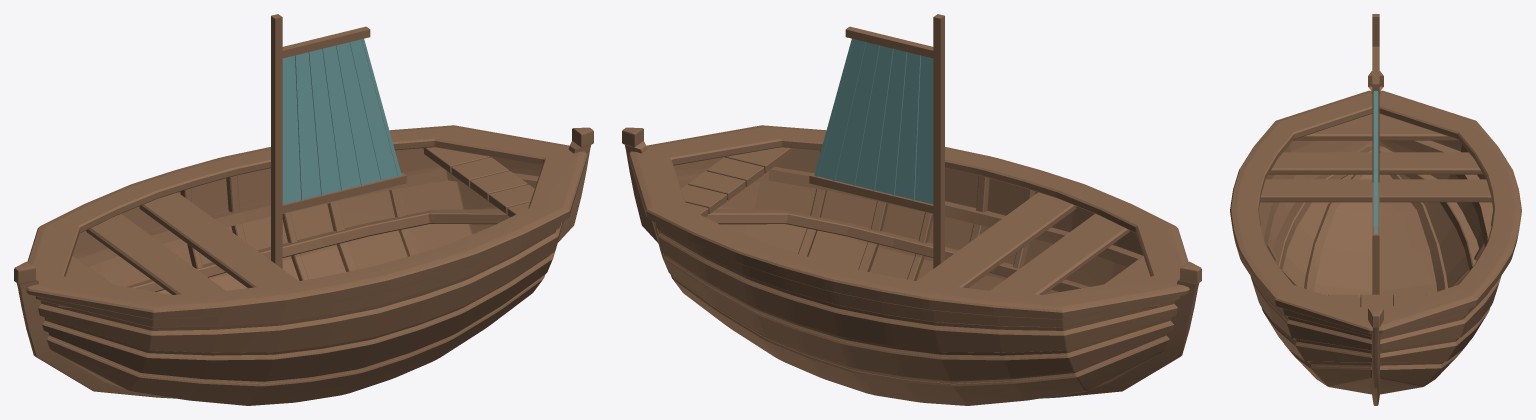
File: BOAT.fbx
The picture shows the model from 3 angles, left to right: view 1: azimuth 30°, elevation 25°; view 2: azimuth 150°, elevation 25°; view 3: azimuth 270°, elevation 25°; orthographic projection. The views are drawn at different scales.
Parts seen in each view (by area): view 1: polySurface18, flag, pCube4, pCube3, polySurface6, polySurface9, pCube8, pCube9, polySurface8, pCube11, pCube12, polySurface16 (+4 smaller); view 2: polySurface18, flag, pCube4, pCube3, polySurface6, polySurface9, pCube8, pCube9, polySurface8, pCube11, pCube12, polySurface16 (+4 smaller); view 3: polySurface18, pCube4, pCube3, polySurface8, polySurface9, pCube2, polySurface11, polySurface6, pCube9, pCube8, flag, polySurface13 (+2 smaller).
Part boxes in pixels (x1=…): polySurface18: x1=26, y1=125, x2=587, y2=405; flag: x1=282, y1=38, x2=401, y2=204; pCube4: x1=139, y1=192, x2=298, y2=288; pCube3: x1=86, y1=214, x2=225, y2=294; polySurface6: x1=14, y1=127, x2=593, y2=398; polySurface9: x1=126, y1=209, x2=510, y2=291; pCube8: x1=423, y1=147, x2=534, y2=217; pCube9: x1=271, y1=14, x2=282, y2=268; polySurface8: x1=46, y1=166, x2=538, y2=325; pCube11: x1=282, y1=173, x2=406, y2=213; pCube12: x1=282, y1=26, x2=370, y2=58; polySurface16: x1=327, y1=201, x2=357, y2=271; polySurface18: x1=628, y1=125, x2=1189, y2=405; flag: x1=814, y1=38, x2=933, y2=204; pCube4: x1=917, y1=192, x2=1076, y2=288; pCube3: x1=990, y1=214, x2=1129, y2=294; polySurface6: x1=622, y1=127, x2=1201, y2=398; polySurface9: x1=705, y1=209, x2=1089, y2=291; pCube8: x1=681, y1=147, x2=792, y2=217; pCube9: x1=933, y1=14, x2=944, y2=268; polySurface8: x1=677, y1=167, x2=1169, y2=325; pCube11: x1=809, y1=173, x2=933, y2=213; pCube12: x1=845, y1=26, x2=933, y2=58; polySurface16: x1=858, y1=201, x2=888, y2=271; polySurface18: x1=1230, y1=90, x2=1521, y2=394; pCube4: x1=1260, y1=179, x2=1491, y2=202; pCube3: x1=1268, y1=152, x2=1483, y2=174; polySurface8: x1=1259, y1=140, x2=1492, y2=351; polySurface9: x1=1273, y1=146, x2=1478, y2=270; pCube2: x1=1293, y1=114, x2=1458, y2=140; polySurface11: x1=1304, y1=174, x2=1447, y2=291; polySurface6: x1=1368, y1=71, x2=1383, y2=405; pCube9: x1=1372, y1=14, x2=1379, y2=294; pCube8: x1=1324, y1=294, x2=1427, y2=309; flag: x1=1373, y1=91, x2=1378, y2=233; polySurface13: x1=1258, y1=210, x2=1493, y2=287.
Size of the model in its own units: 707 by 442 by 354.
